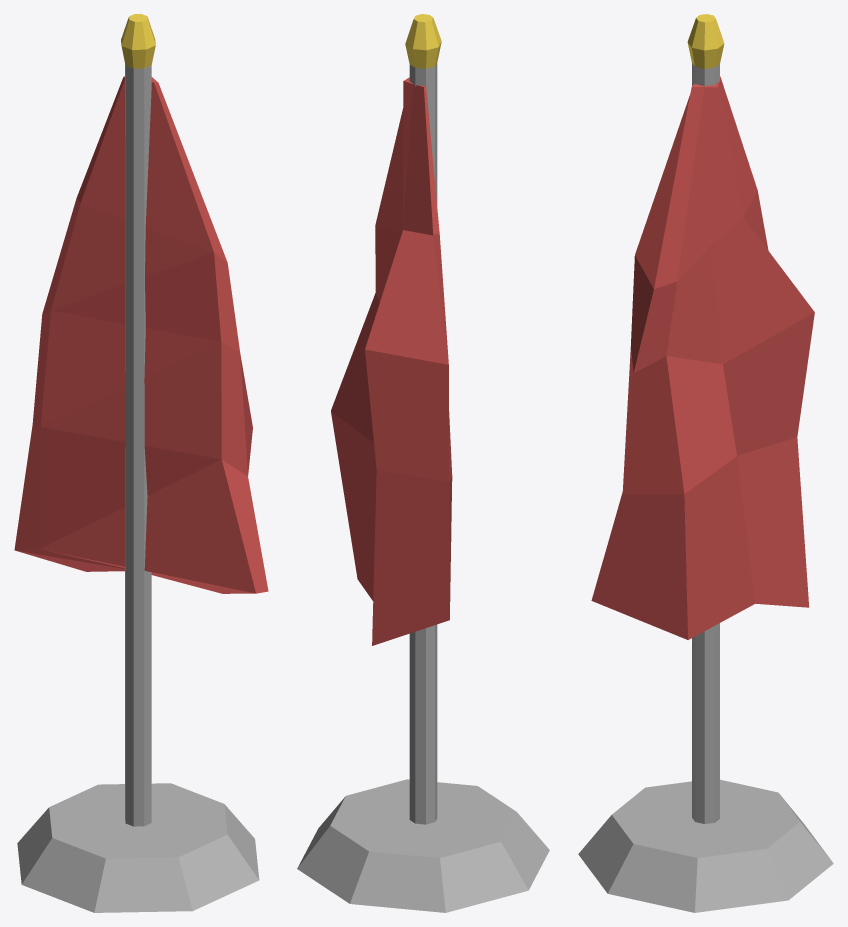
Rendered from Wh_Table_Flag.fbx.
3 views of the same model, side by side, from view 1: azimuth 30°, elevation 25°; view 2: azimuth 150°, elevation 25°; view 3: azimuth 270°, elevation 25° (orthographic).
Parts seen in each view (by area): view 1: Cylinder.031; view 2: Cylinder.031; view 3: Cylinder.031.
Boxes of the visible parts, x1,y1,x2,y2 form: Cylinder.031: (14, 14, 268, 912); Cylinder.031: (297, 14, 549, 912); Cylinder.031: (578, 14, 833, 912).
Size of the model in its own units: 9.9 by 35.93 by 9.9.
